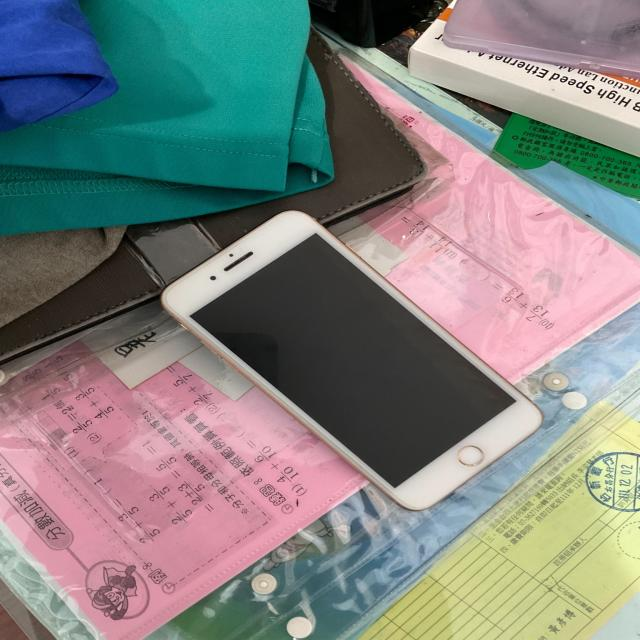Smartphone: (147, 191, 565, 534)
